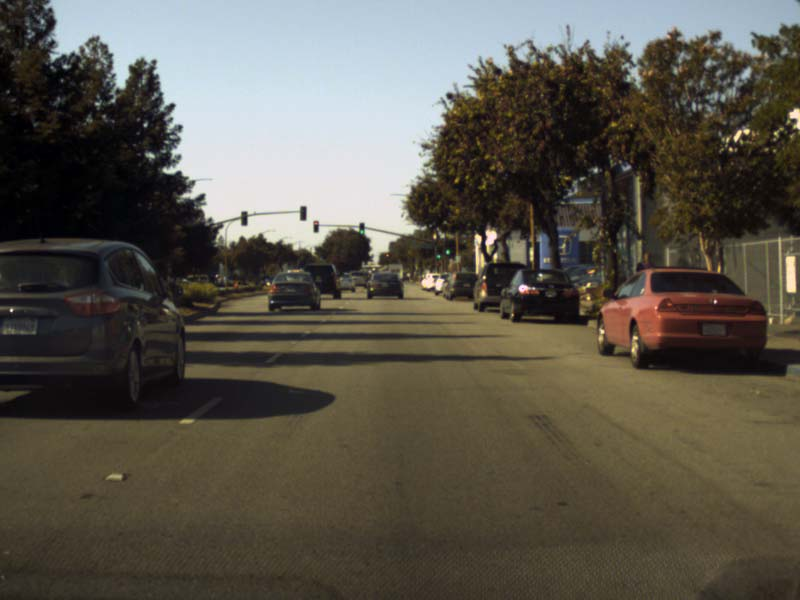Green: (444, 241, 453, 258), (435, 246, 442, 260), (358, 222, 364, 234)
Red: (313, 220, 318, 233), (385, 252, 389, 259)
